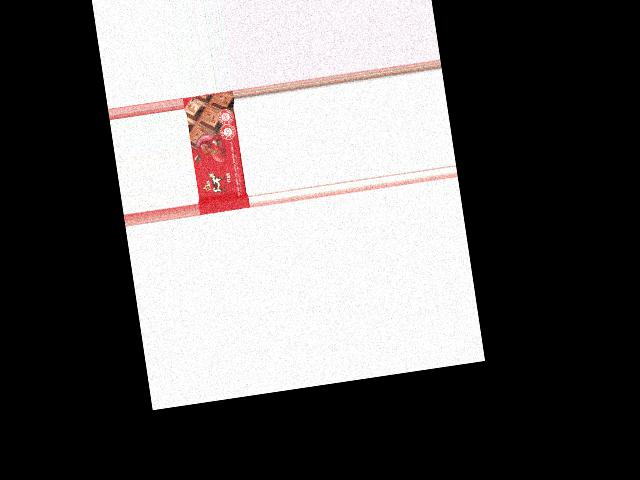chocolate: (183, 91, 250, 215)
